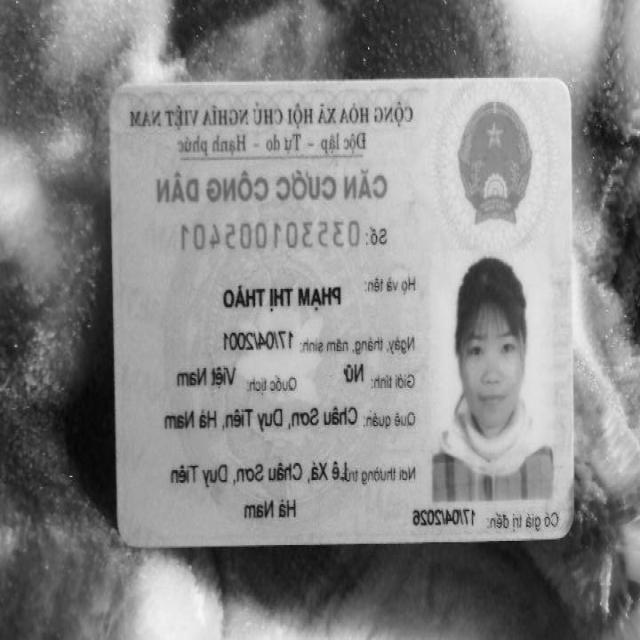bottom_left: (545, 508, 586, 551)
bottom_right: (104, 516, 147, 560)
image_person: (428, 250, 554, 498)
top_left: (540, 68, 586, 116)
top_right: (97, 82, 138, 125)
